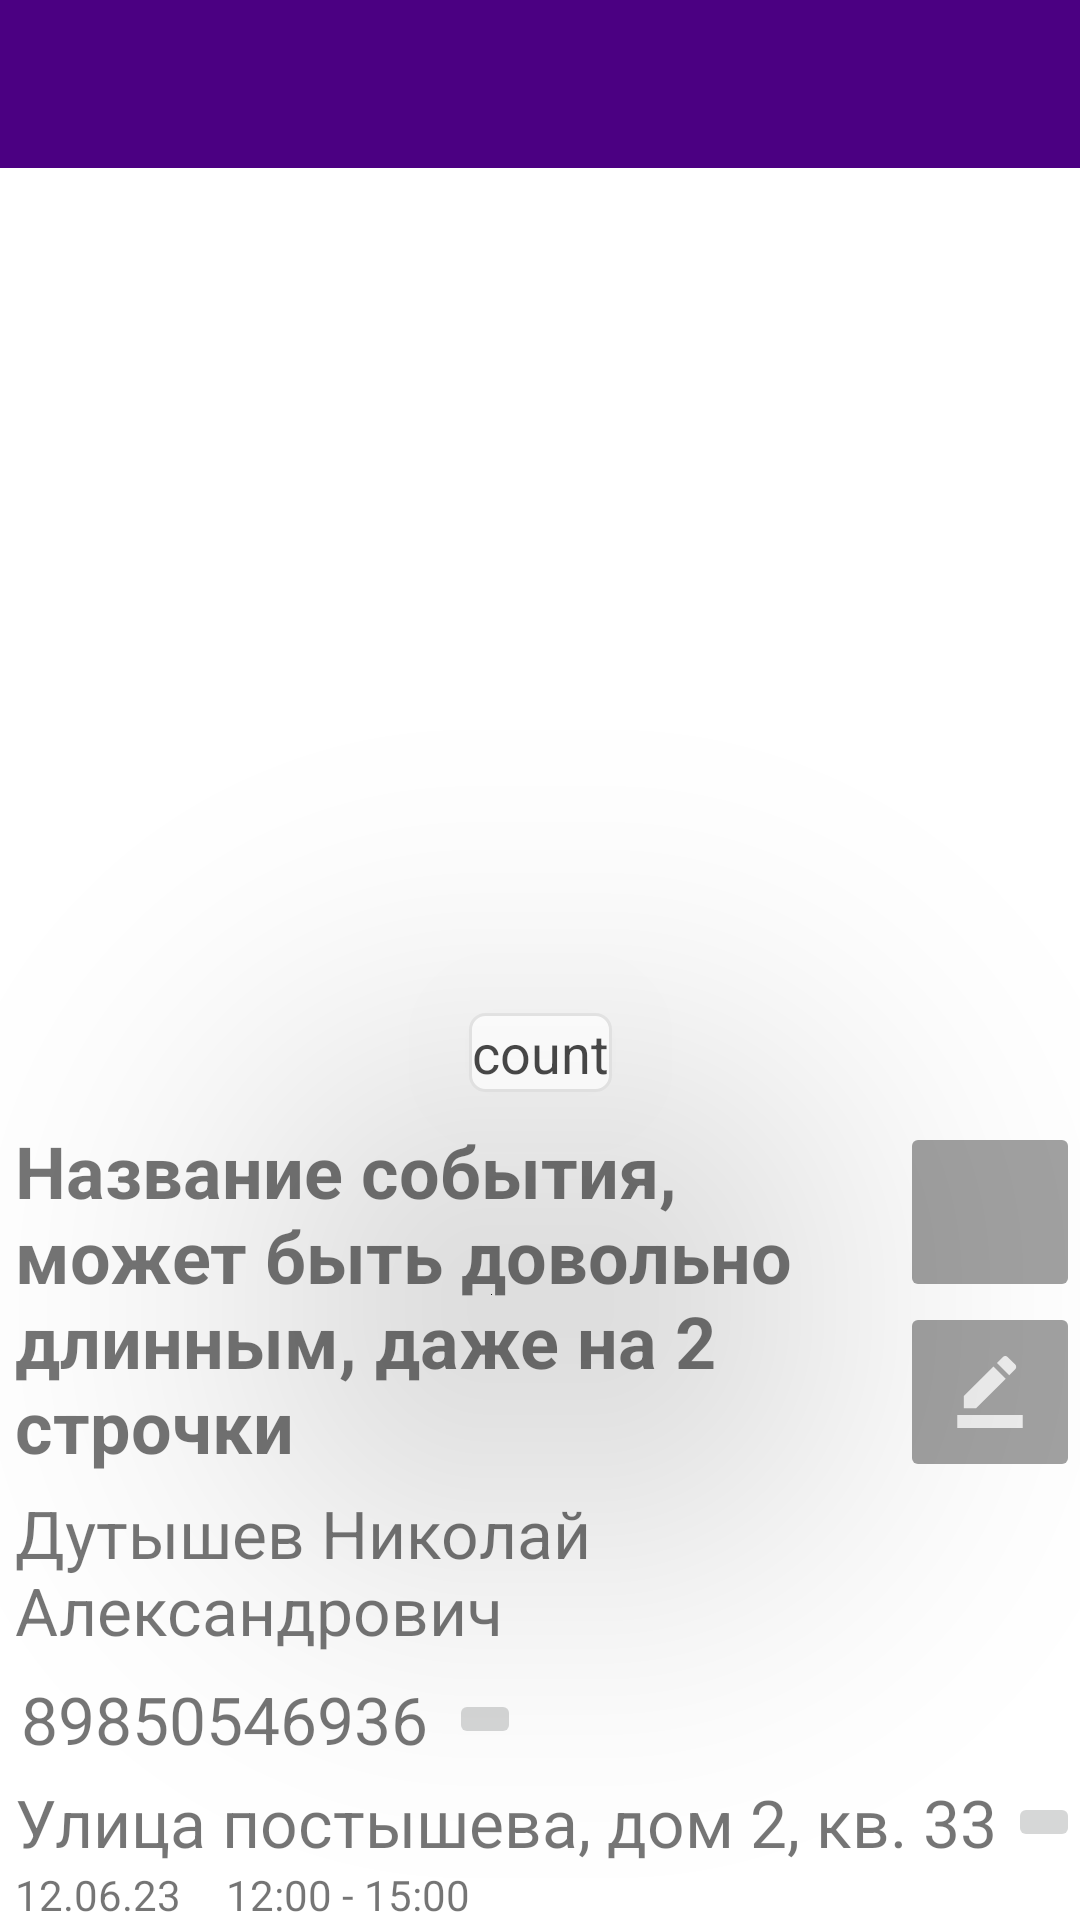

Named icons in this screenshot (1080 x 1920) and their bounding boxes, (x1, y1, x2, y2):
add changes: (912, 1320, 1068, 1464)
